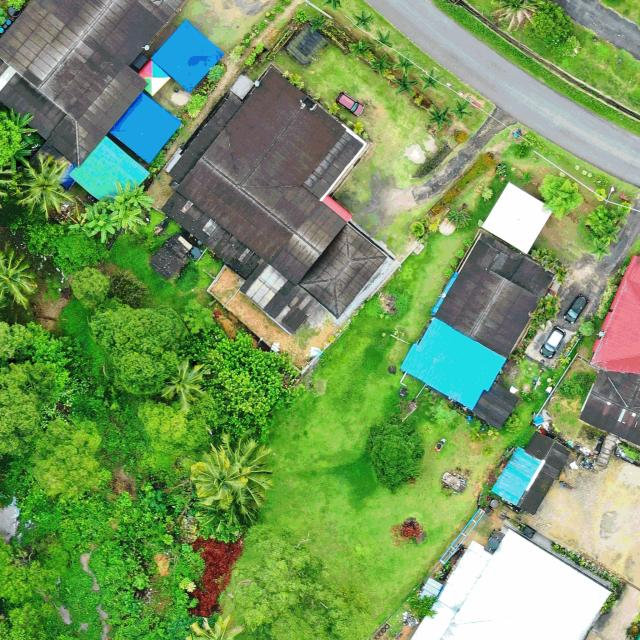0: (190, 432, 276, 532), (5, 151, 74, 220), (0, 244, 38, 308), (161, 361, 209, 408), (185, 611, 251, 640)
banana_tree2: (108, 179, 154, 234), (80, 197, 120, 242)
tree: (188, 323, 296, 438), (88, 299, 187, 399), (367, 418, 424, 490), (537, 172, 585, 220), (528, 0, 575, 47), (70, 265, 112, 307), (559, 370, 598, 402), (428, 106, 452, 131), (392, 74, 418, 96), (449, 98, 473, 121), (348, 37, 372, 59), (370, 53, 395, 74), (589, 238, 610, 262), (371, 29, 393, 51), (419, 69, 441, 91), (393, 52, 414, 75), (353, 11, 375, 31), (601, 222, 621, 242), (309, 13, 326, 34), (610, 207, 628, 226)
